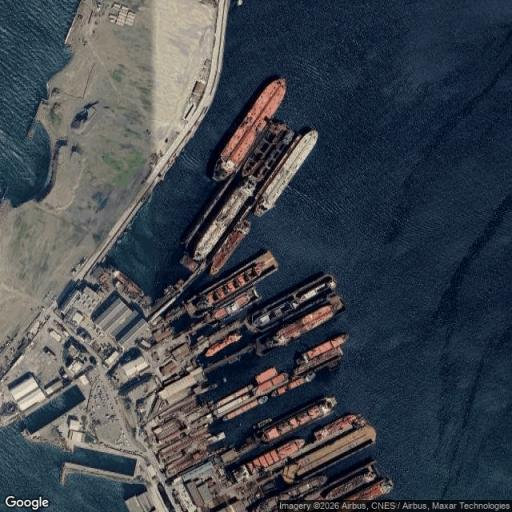ship: (214, 79, 286, 180), (184, 252, 278, 316), (283, 425, 375, 483), (192, 177, 255, 261), (254, 131, 317, 215), (247, 274, 335, 331), (264, 296, 343, 348), (256, 396, 336, 442), (242, 121, 295, 181), (235, 439, 304, 481), (255, 476, 327, 511), (210, 219, 250, 275), (294, 334, 348, 375), (321, 461, 377, 499), (205, 287, 260, 323), (314, 414, 365, 441), (214, 384, 253, 416), (110, 265, 145, 297), (223, 396, 267, 420), (272, 372, 315, 396), (344, 479, 392, 500), (205, 332, 241, 357), (257, 372, 290, 394), (254, 366, 279, 385), (253, 417, 272, 431), (196, 335, 205, 342)
